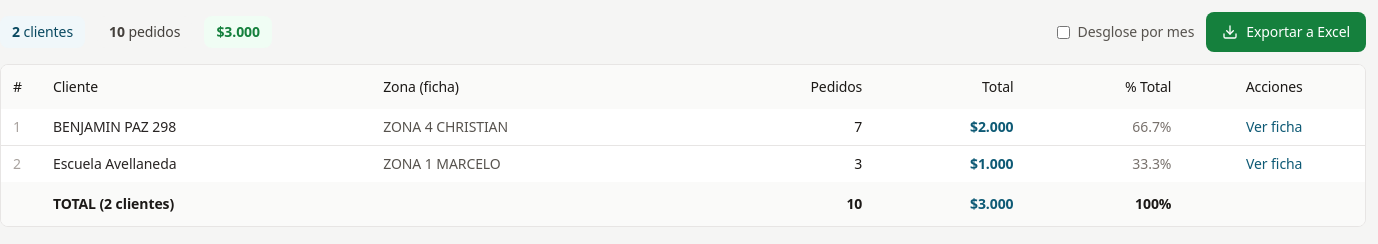
Test case: ReporteVentasClientes › el desglose por mes está oculto por defecto y se puede prender
Expected: the column heading "Jun 26" is not shown
Click the checkbox labelled "Desglose por mes": (1063, 32) [1057,26,1070,38]
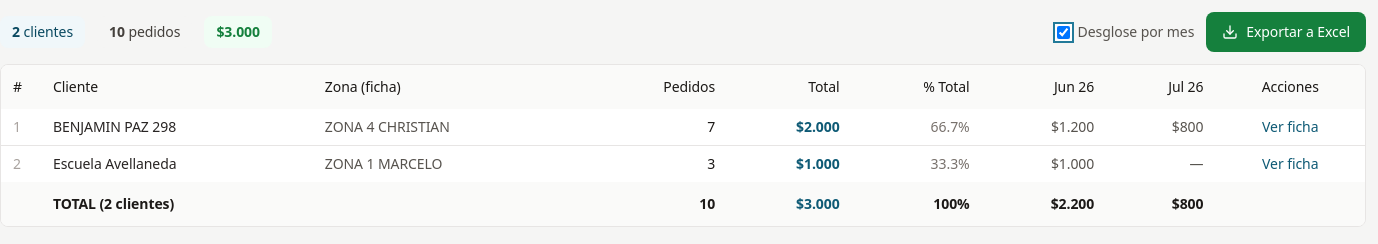
Expected: the column heading "Jun 26" is shown, [982,65,1106,109]
Expected: the column heading "Jul 26" is shown, [1106,65,1216,109]
